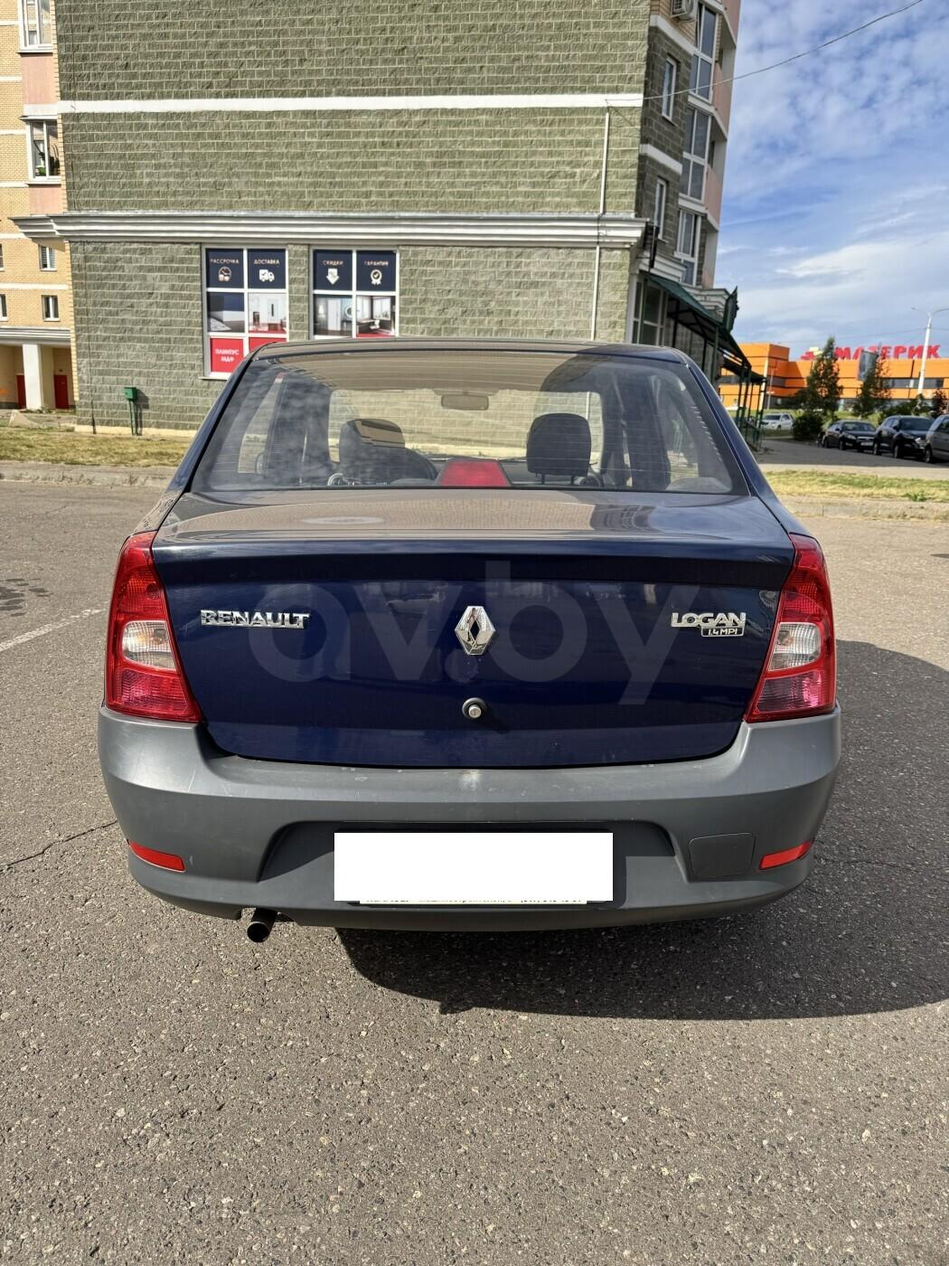Logan_2008-2015: (94, 322, 855, 944)
